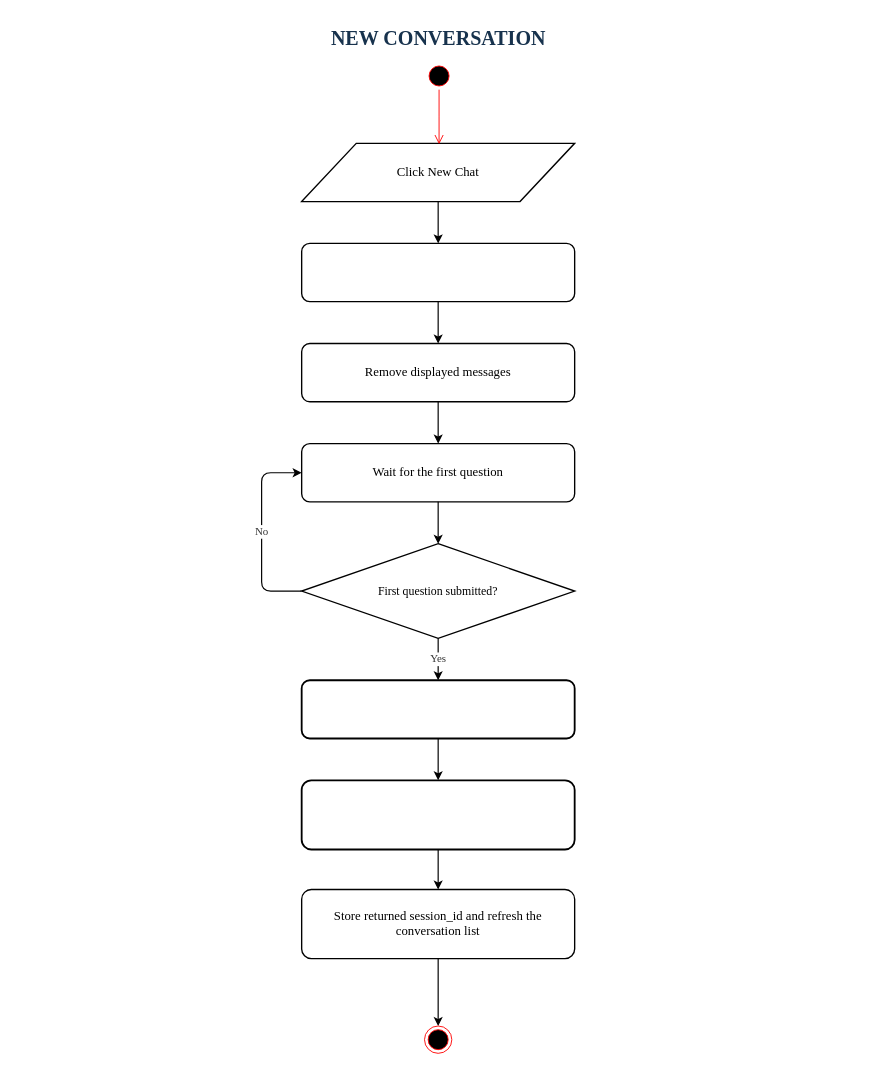
The diagram is 876 pixels wide and 1069 high, and some of its shapes have lost their labels. The shapes that lost their labels are listed below. From the top down, each one's centre as x and y in pixels, then its label:
At point 438,272: "Set currentSessionId to null".
At point 437,709: "POST /chat without session_id".
At point 437,814: "Backend generates a UUID and processes the question".
